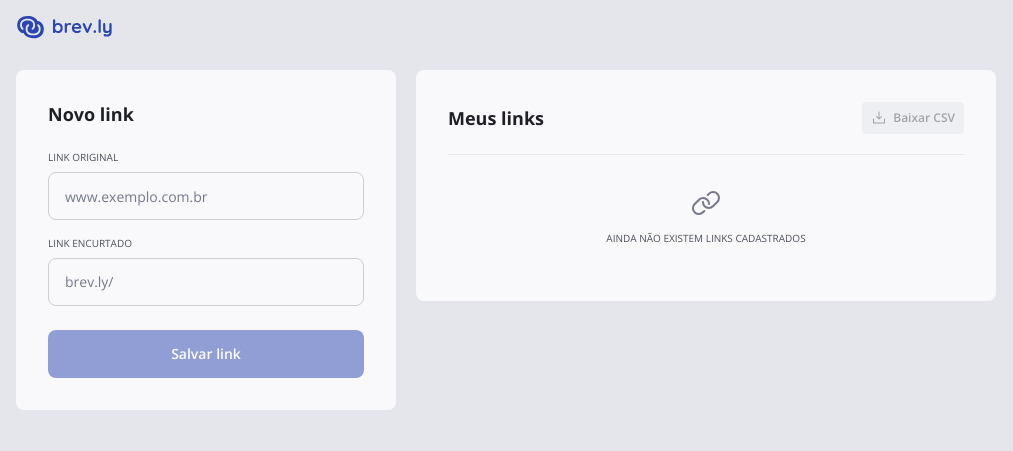
Scenario: Home — cadastro › mostra erro no campo quando o código já existe
Type "exemplo.com" into the field labelled "Link original" at (206, 196), box [65,173,347,219]
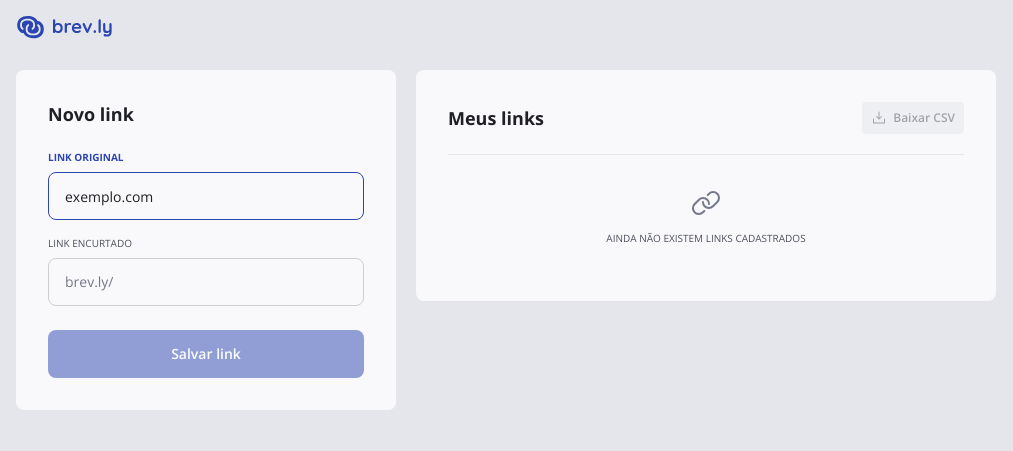
Type "existente" into the field labelled "Link encurtado" at (230, 282), box [114,259,347,305]
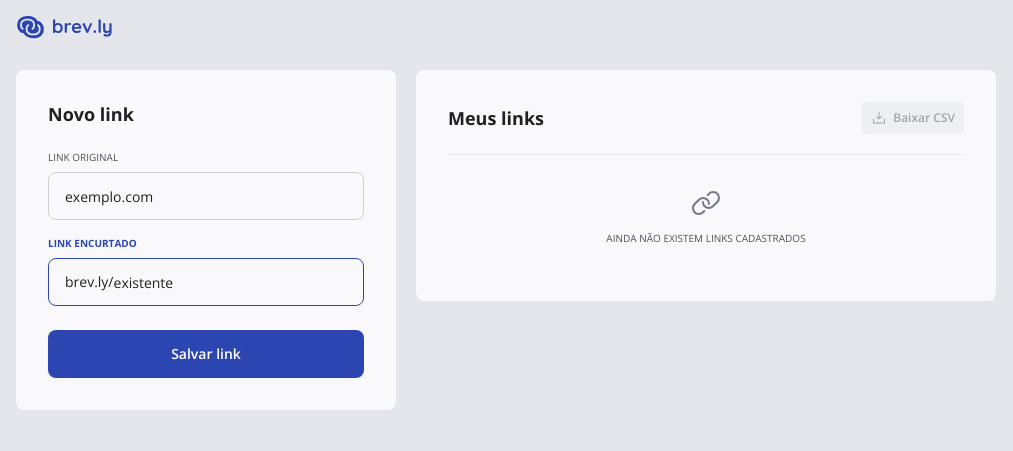
Click the button "Salvar link" at (206, 354), box [48,330,364,378]
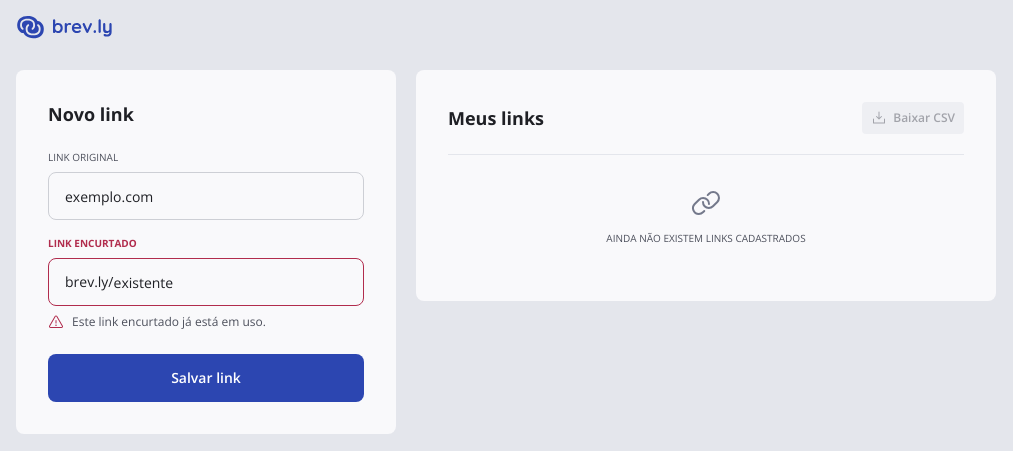
Result: the text "Este link encurtado já está em uso." is shown at [48,313,266,330]
